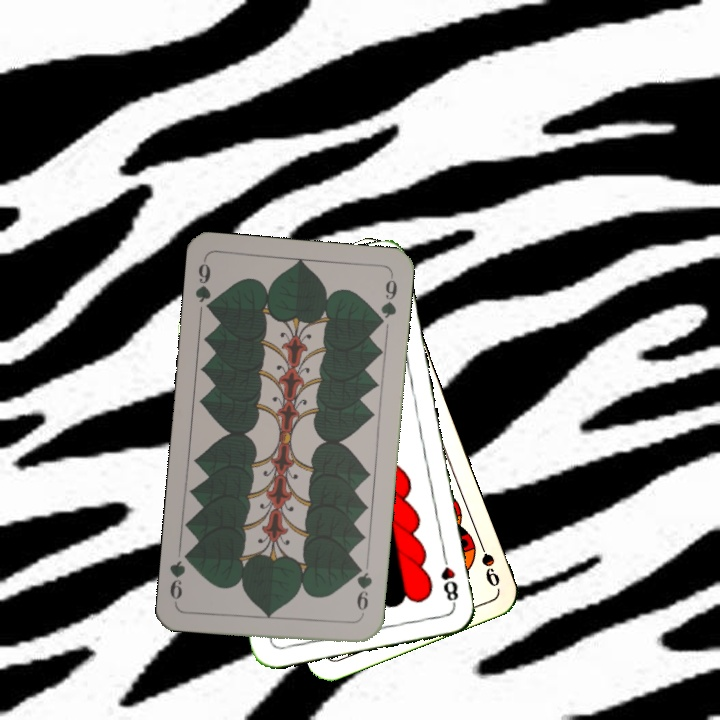G9: (191, 256, 216, 316), (352, 561, 375, 620)
H8: (437, 549, 461, 608)
S9: (473, 532, 503, 590)
